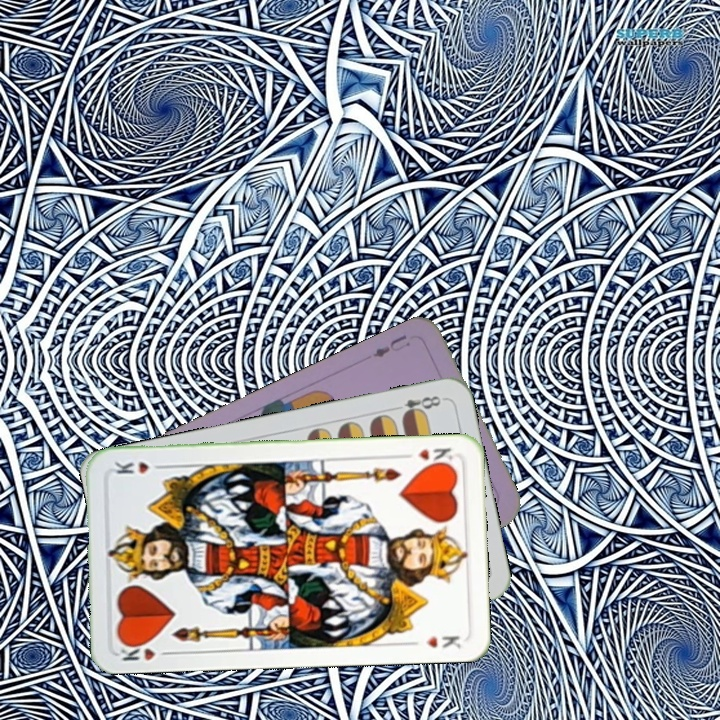E8: (388, 392, 447, 420)
EU: (368, 330, 409, 360)
HK: (115, 637, 175, 664), (399, 444, 456, 469)
